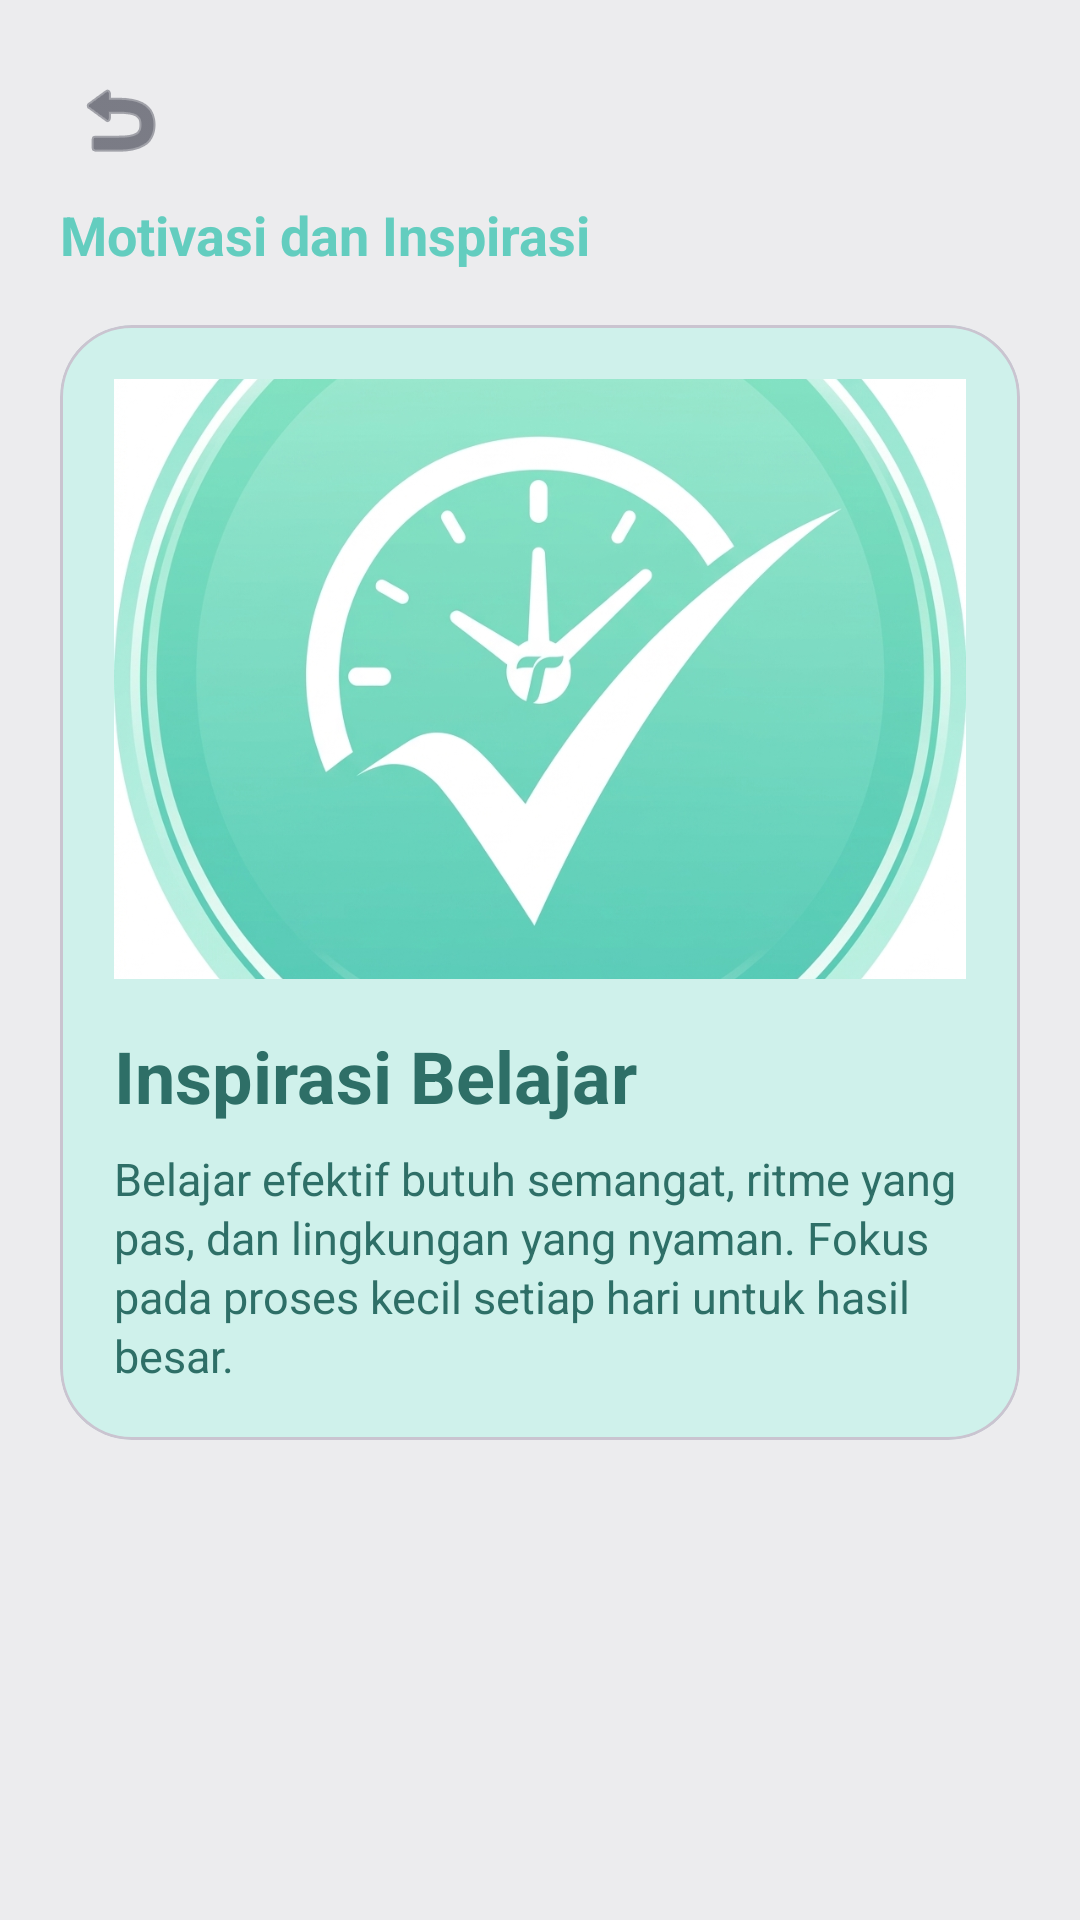

Icon click points for this 1080x1920 phone screenshot, format [x,y]:
Kembali: [121,120]
